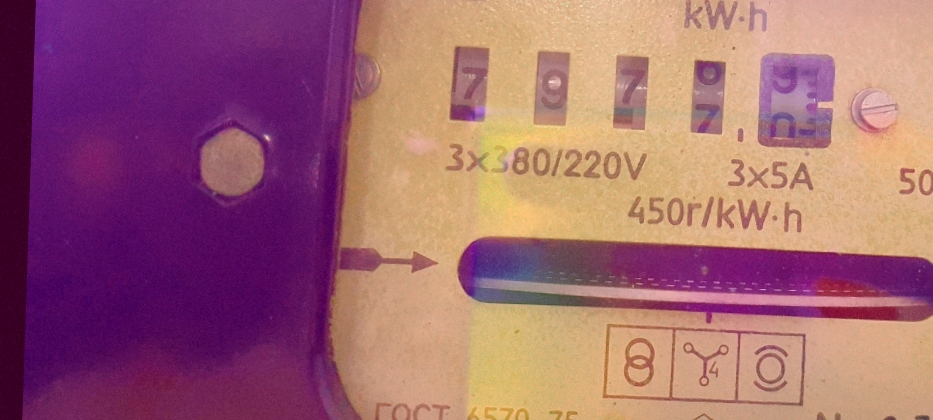0: (766, 105, 800, 145)
7: (457, 62, 488, 105), (616, 64, 647, 107), (691, 99, 722, 136)
9: (536, 65, 571, 111), (769, 58, 801, 94)
screen: (429, 21, 861, 171)
